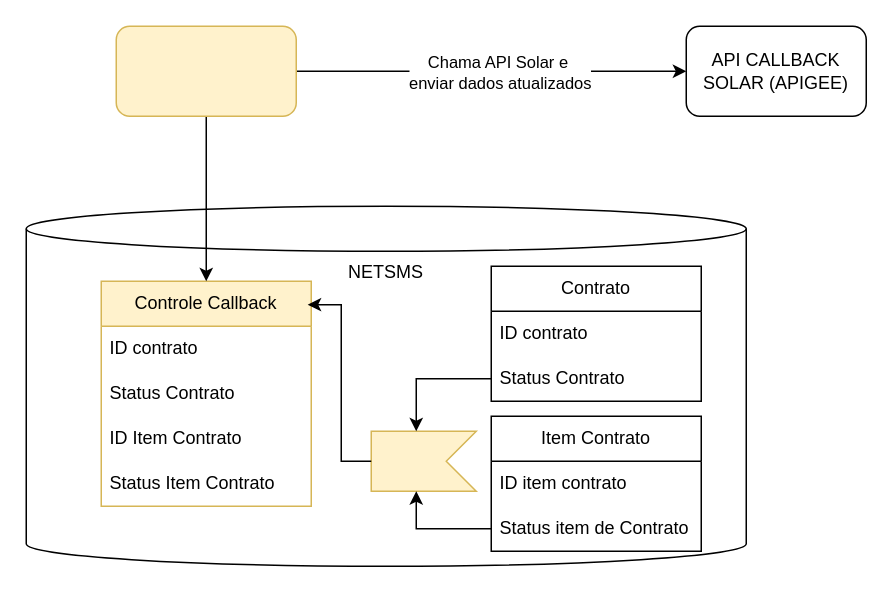
The diagram is 893 pixels wide and 593 high, and some of its shapes have lost their labels. Each missing label, with the centre of its shape:
"NOVO MS ATUALIZA STATUS CONTRATO SOLAR" goes at pixel 205 70.
"Trigger1 Status." goes at pixel 423 460.
